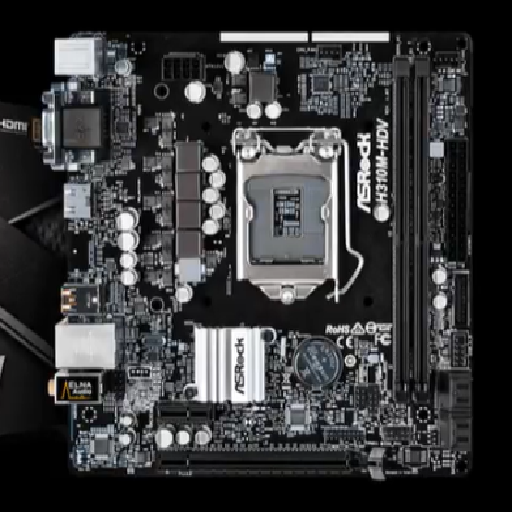CPU: (231, 125, 349, 303)
GPU: (151, 444, 386, 481)
MOTHERBOARD: (40, 28, 474, 477)
RAM: (389, 54, 435, 403)
